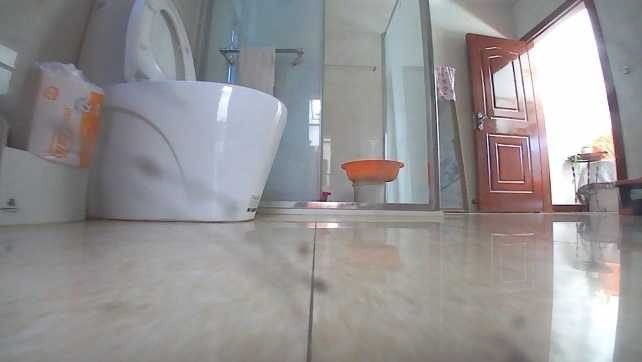door_anno: (459, 27, 558, 213)
toilet: (73, 1, 290, 223)
